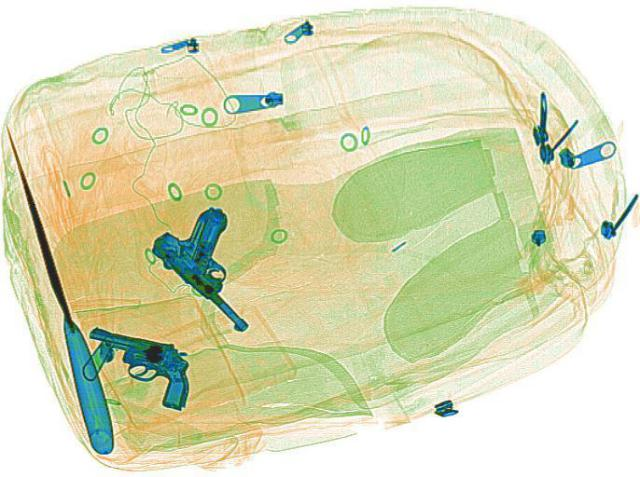Gun: (135, 201, 313, 330), (62, 322, 212, 411)
Knife: (1, 121, 119, 454)
